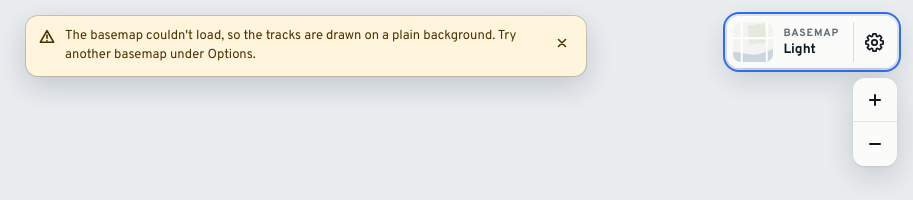
Test case: when the basemap's style can't load › lets the notice be dismissed, and keeps it out of the way while the Options menu is open
The width and height of the screenshot is (913, 200).
Expected: the message shows "The basemap couldn't load, so the tracks are drawn on a plain background. Try another basemap under Options.", [65, 28, 516, 63]
Click the button named "Dismiss" at (562, 43), box [546, 27, 578, 59]
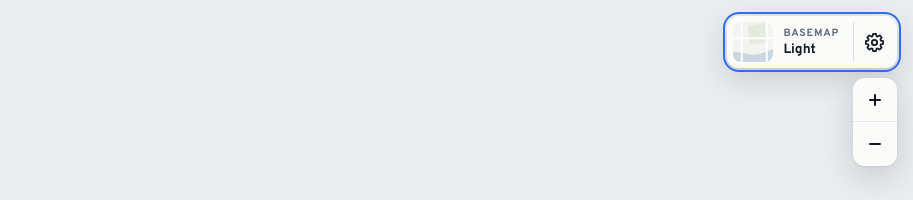
Expected: the message is gone
